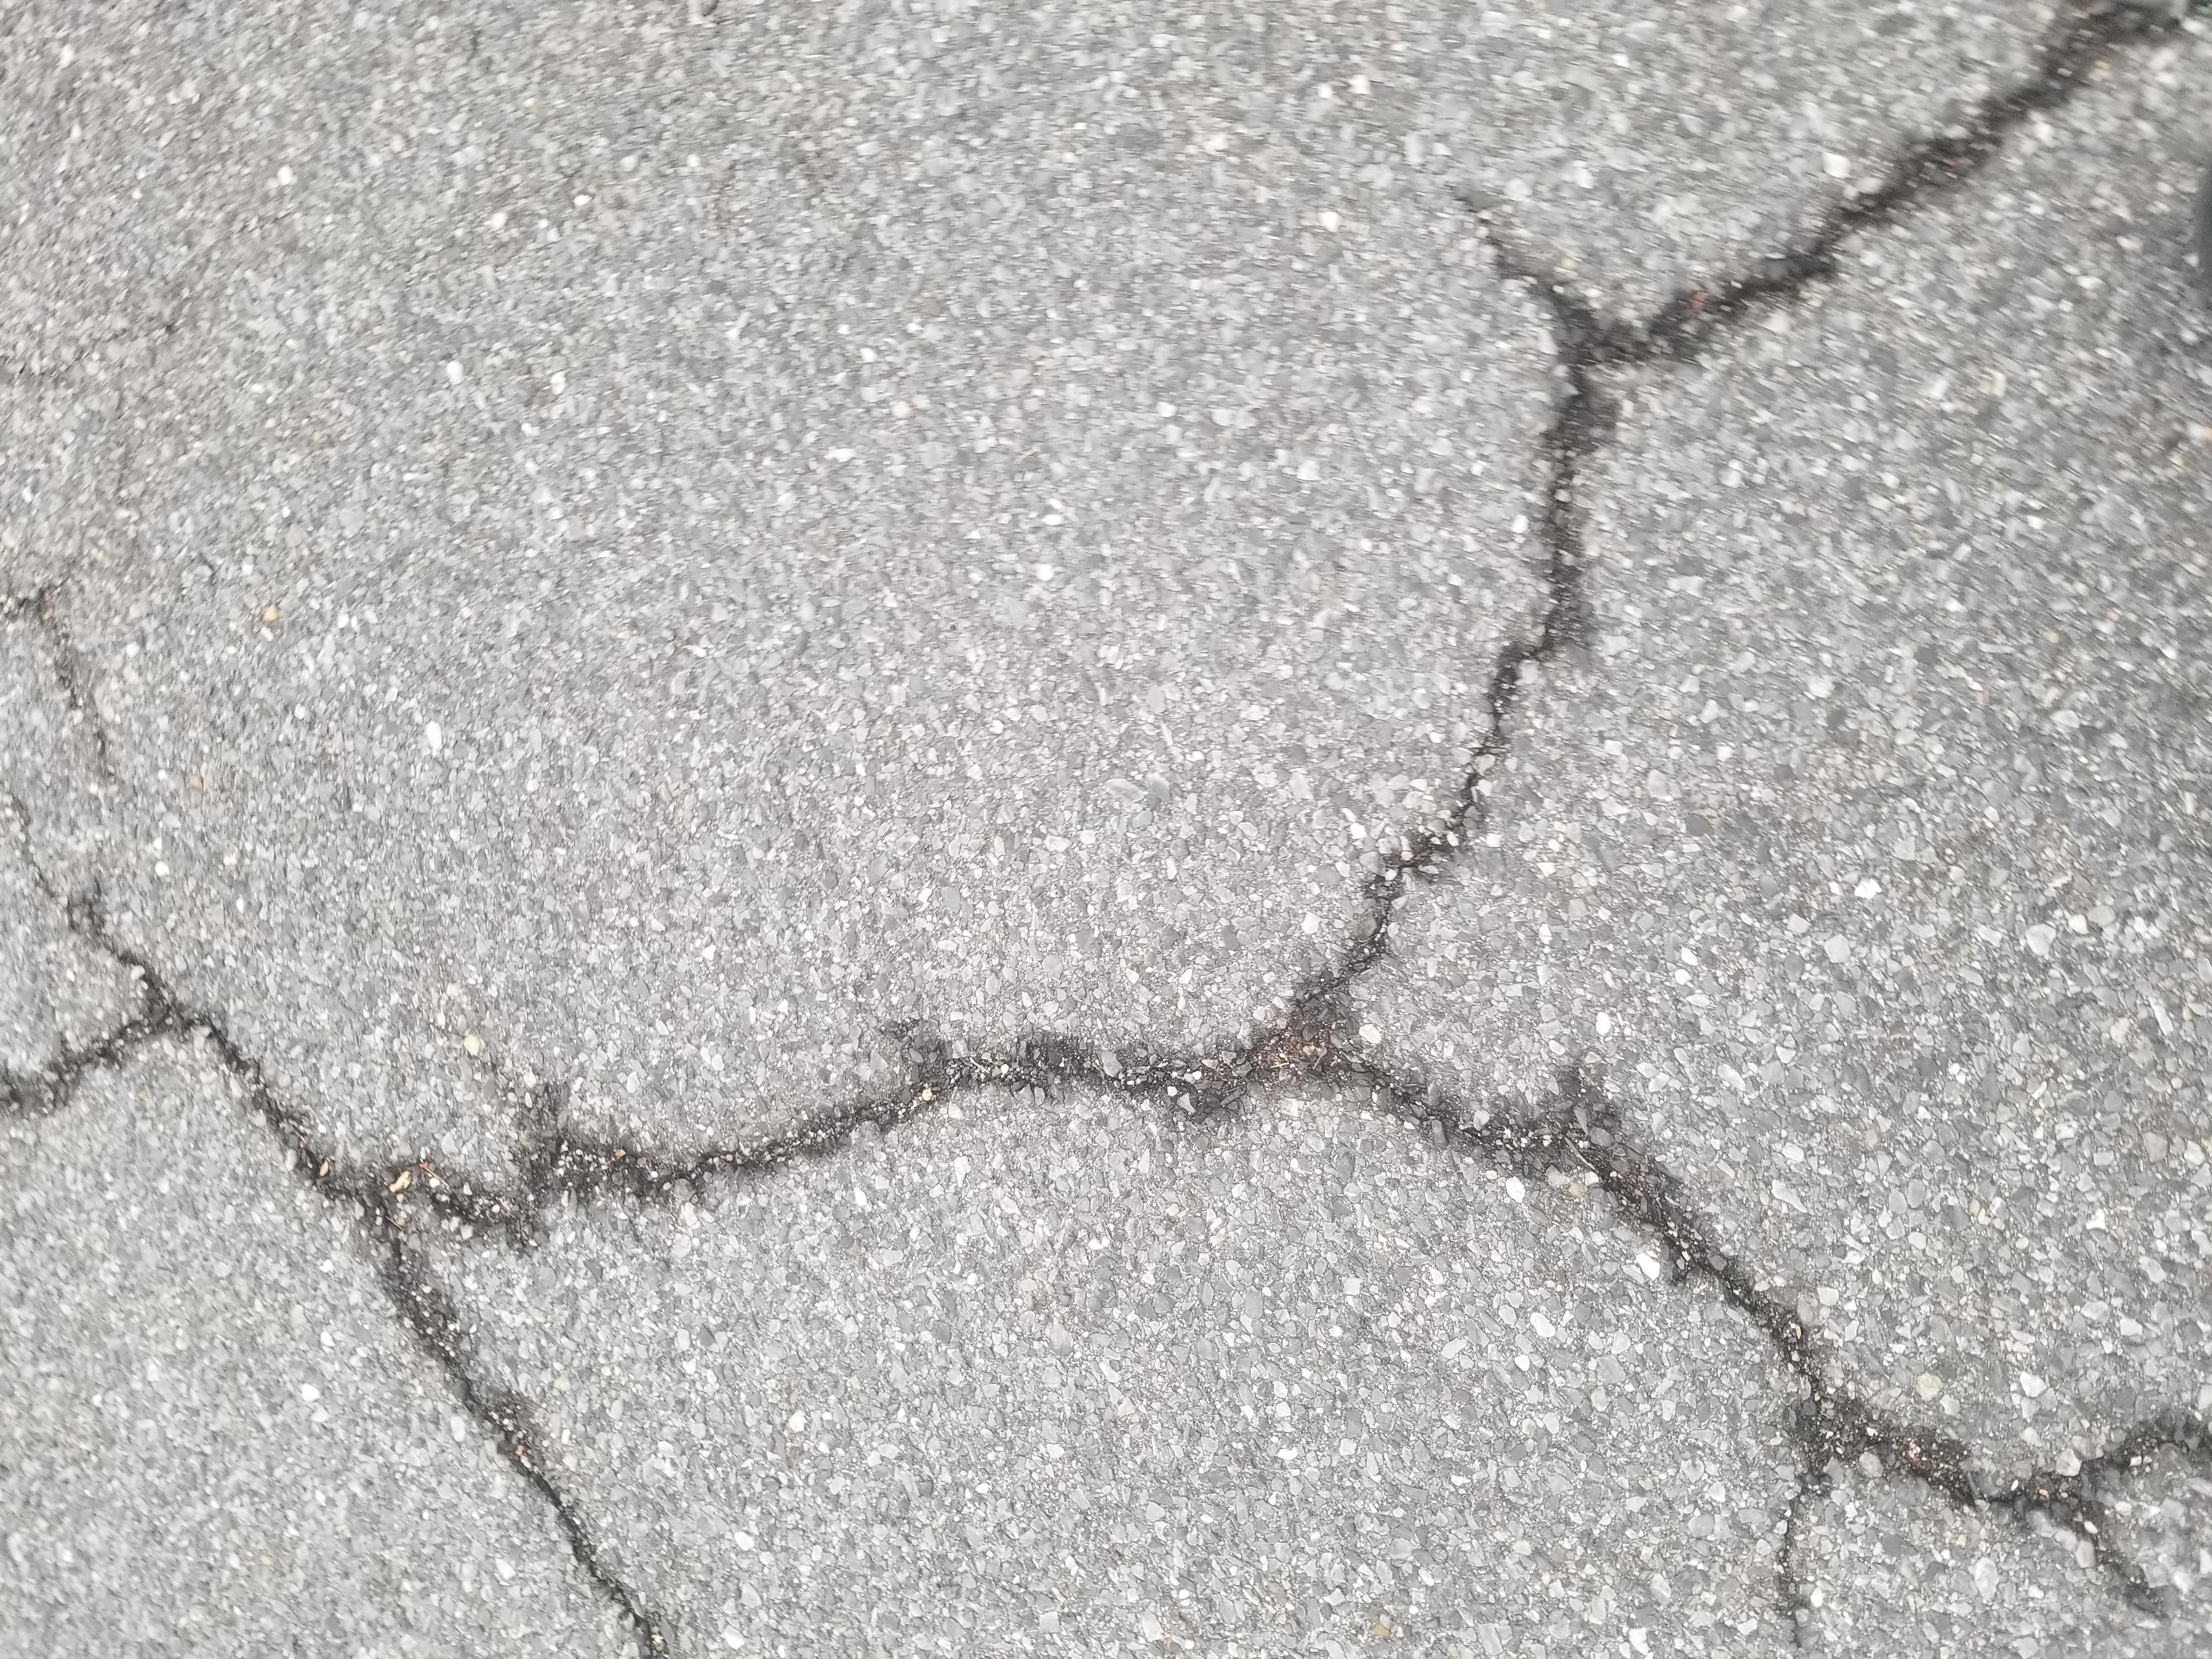alligator-crack: (0, 26, 2212, 1659)
